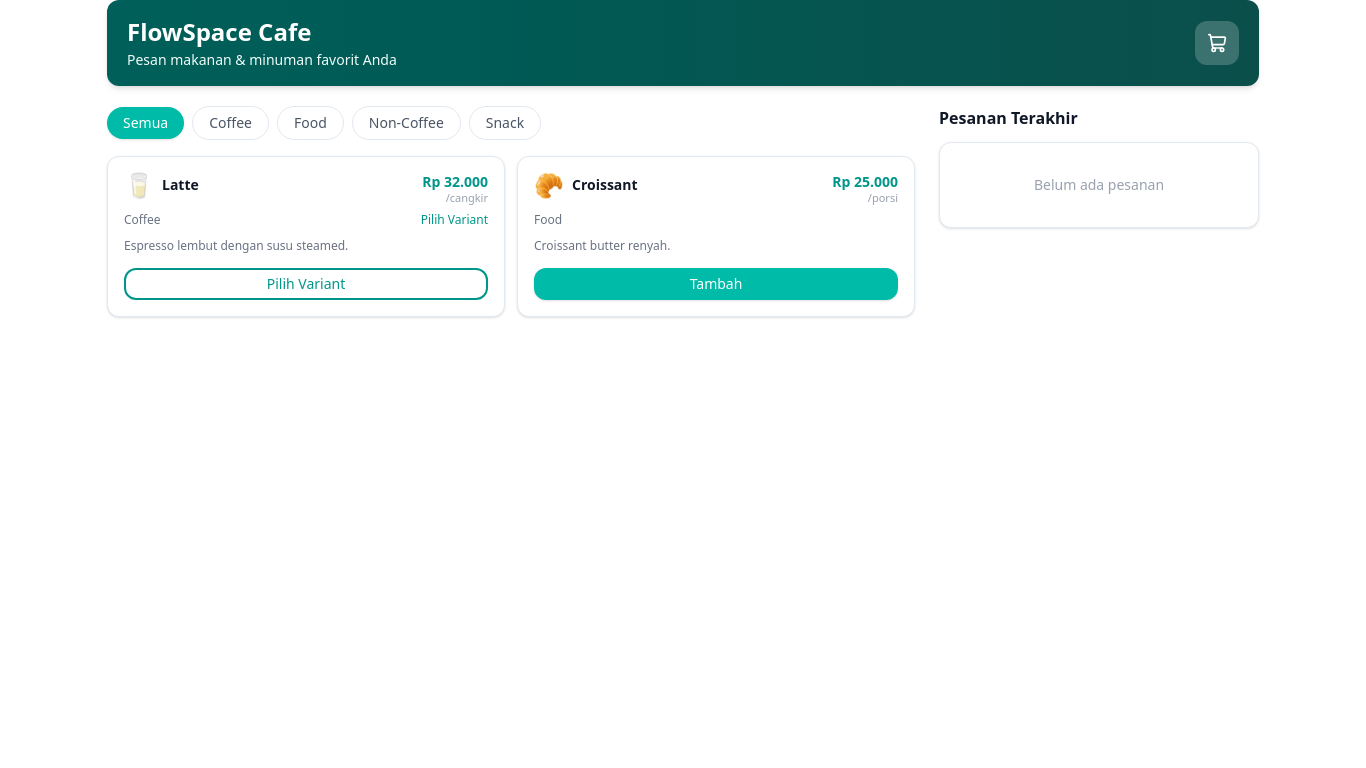
Test: CafeClient (AC-101) › AC-102: clears error message on next successful submit
The width and height of the screenshot is (1366, 768).
Click the button "Tambah".
click(716, 284)  # box [534, 268, 898, 300]
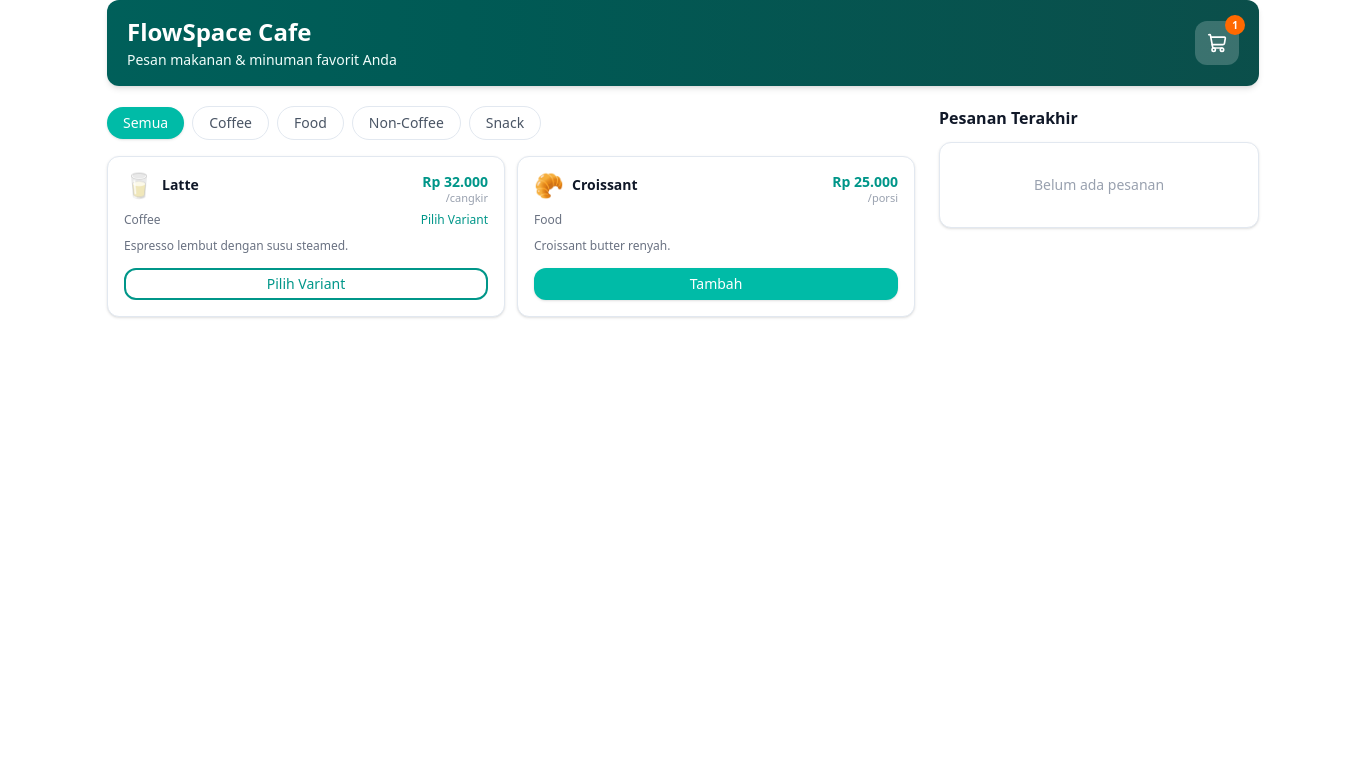
Click the button named "buka keranjang".
click(1217, 43)  # box [1195, 21, 1239, 65]
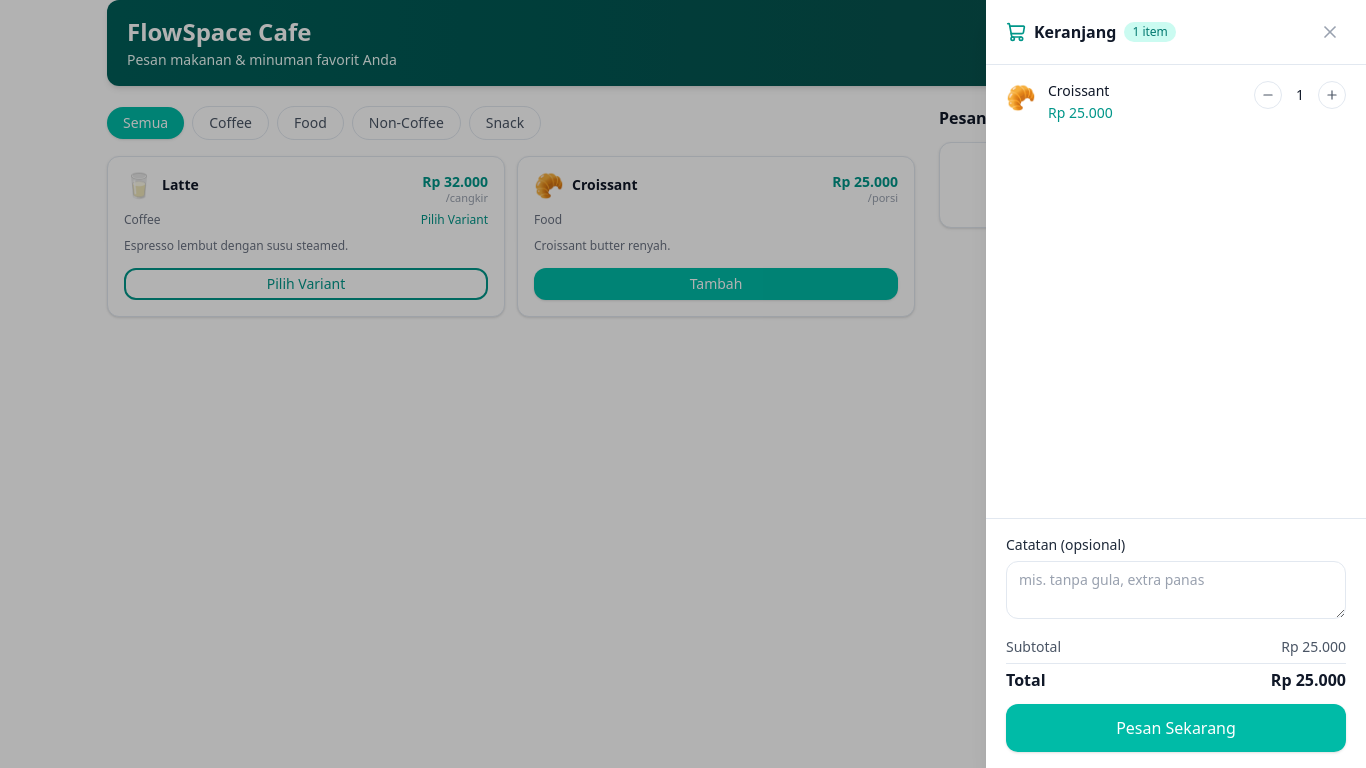
Click the button "Pesan Sekarang".
click(1176, 728)  # box [1006, 704, 1346, 752]
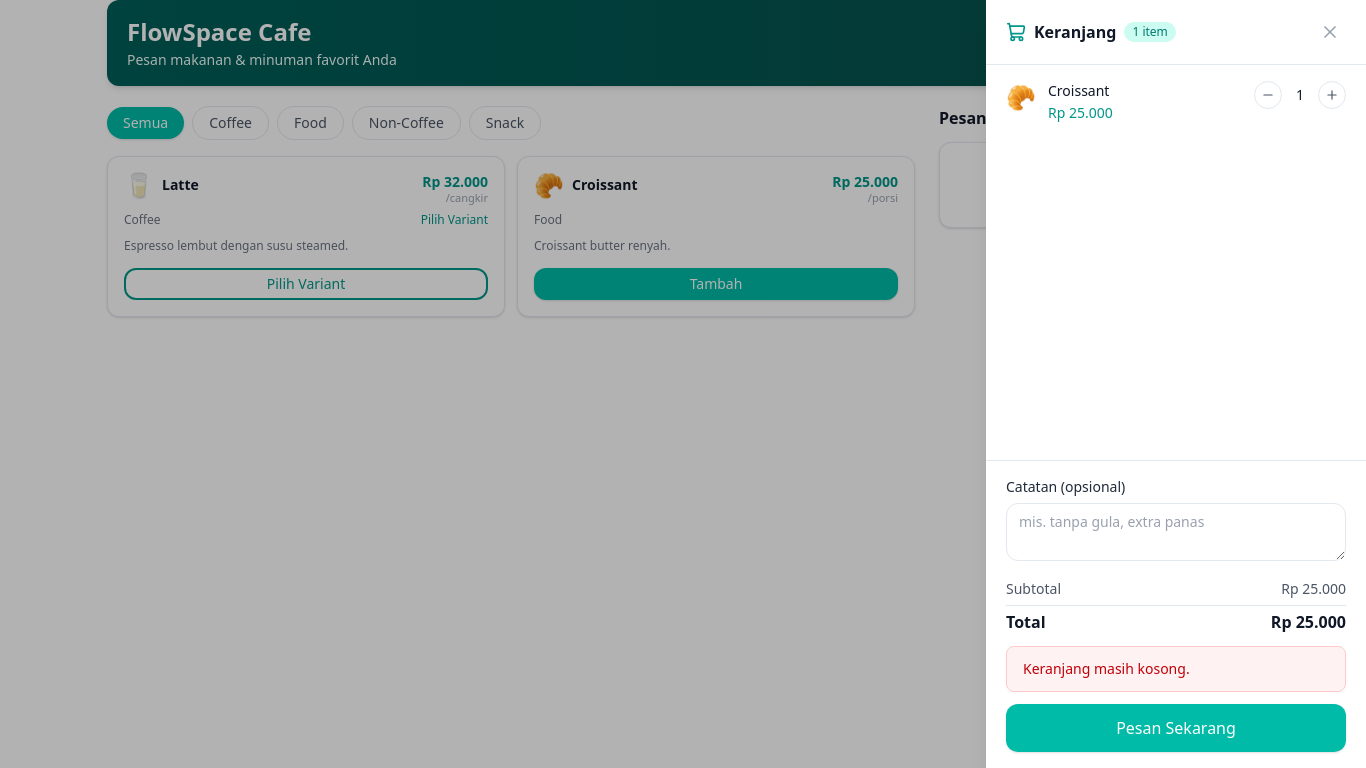
Now the message "Keranjang masih kosong." is shown, box [1006, 646, 1346, 692]
# Second click — should succeed and error should be gone
Click the button "Pesan Sekarang".
click(1176, 728)  # box [1006, 704, 1346, 752]
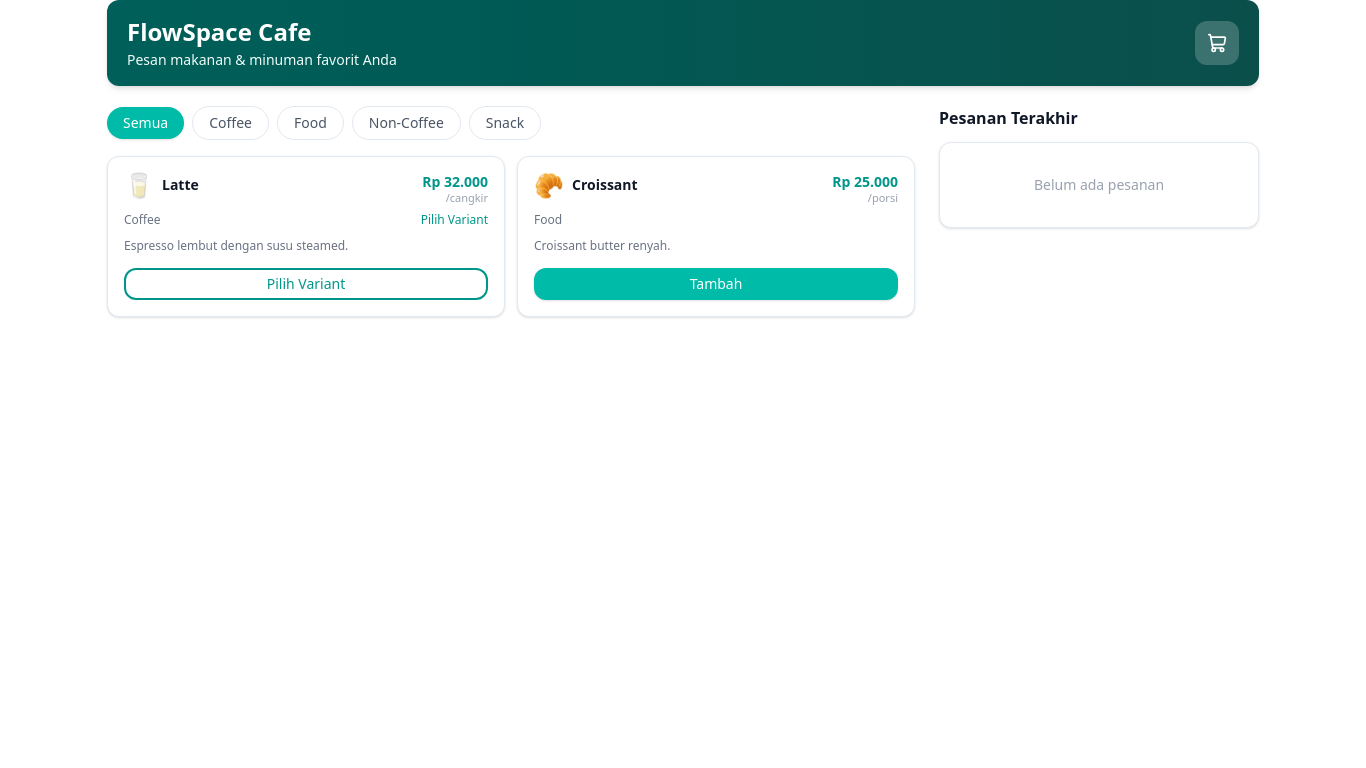
Now the message "Keranjang masih kosong." is gone
